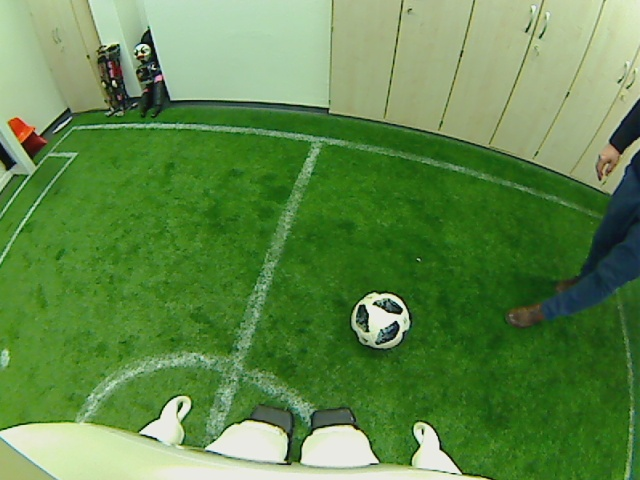ball: (349, 290, 411, 351)
